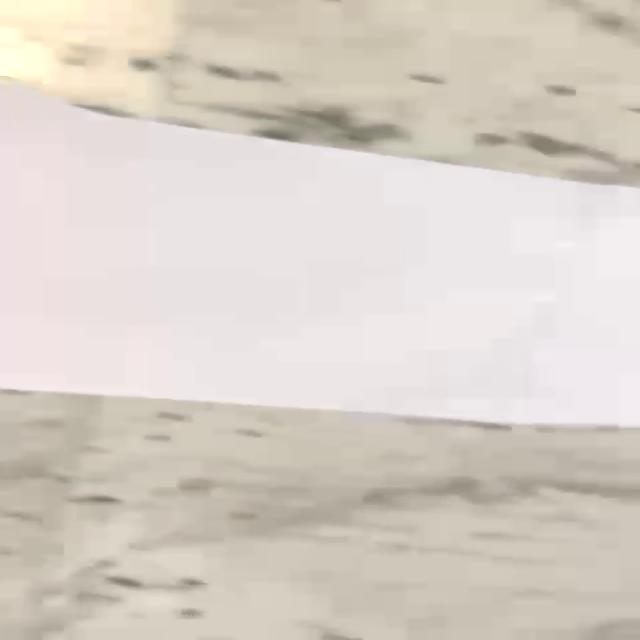road: (0, 81, 640, 429)
